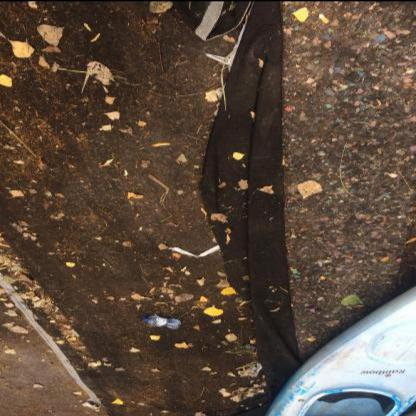Bottle: (142, 316, 146, 321)
Bottle cap: (142, 314, 181, 328)
Cigarette: (318, 13, 330, 23)
Paper: (168, 244, 220, 256)
